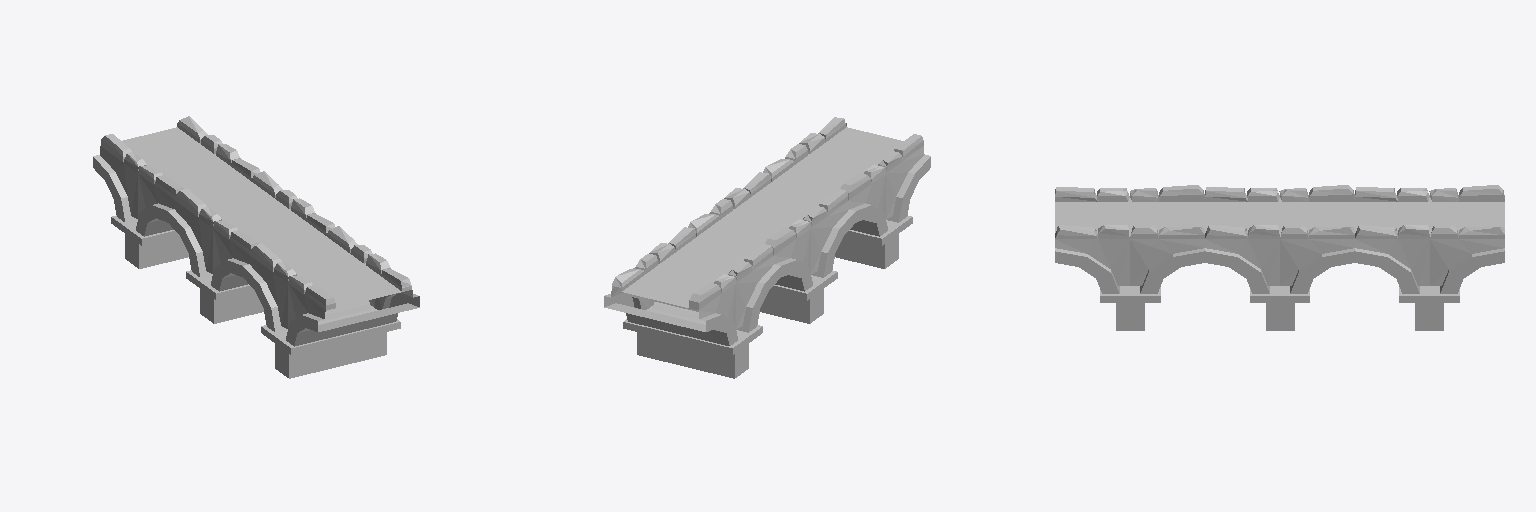
The model's file is bridge.obj.
3 views of the same model, side by side, from view 1: azimuth 30°, elevation 25°; view 2: azimuth 150°, elevation 25°; view 3: azimuth 270°, elevation 25° (orthographic).
Visible parts, largest first — view 1: Object_bridge.jpg; view 2: Object_bridge.jpg; view 3: Object_bridge.jpg.
Part boxes in pixels (bbox=[...]): Object_bridge.jpg: bbox=[93, 116, 419, 378]; Object_bridge.jpg: bbox=[604, 117, 930, 378]; Object_bridge.jpg: bbox=[1055, 185, 1504, 330].
Bounding box in the file's own units: 0.7012 × 0.6231 × 2.5.